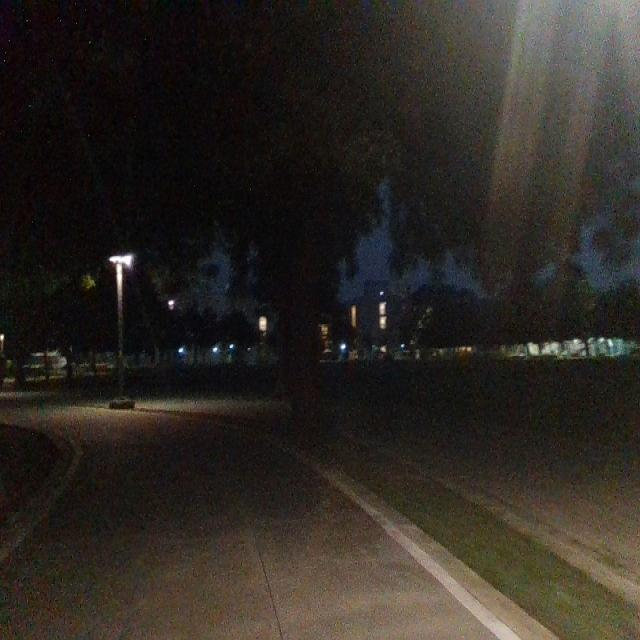lane: (1, 410, 506, 640)
